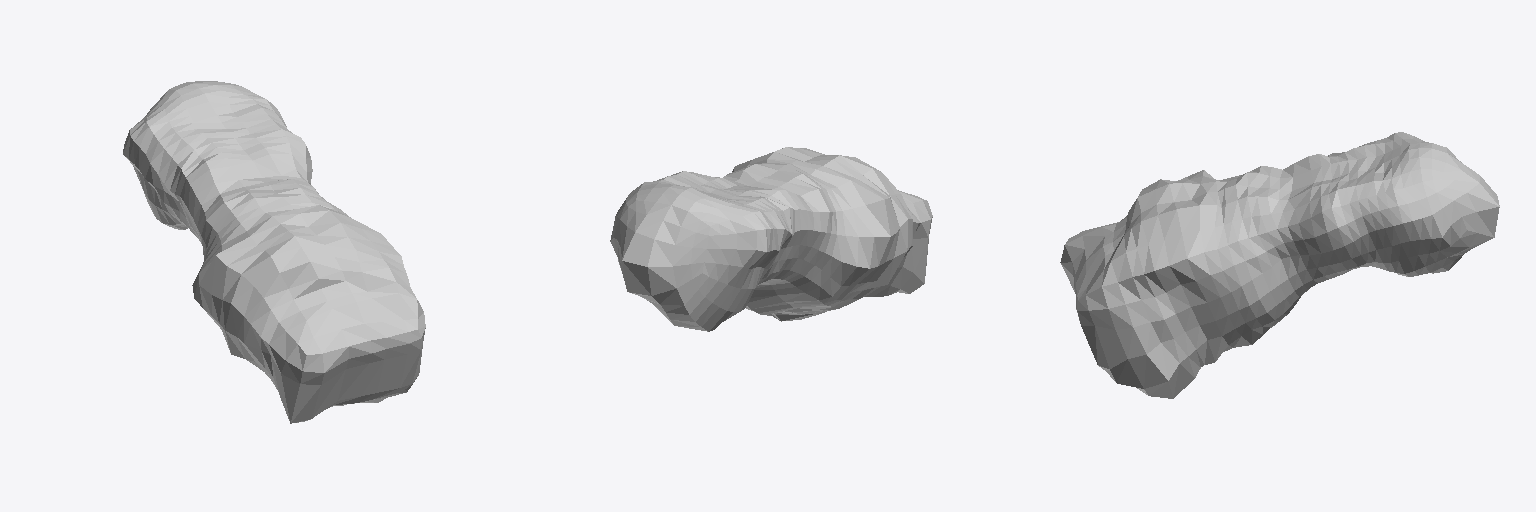
File: env_level1_Canyon_Rock29.obj
3 views of the same model, side by side, from view 1: azimuth 30°, elevation 25°; view 2: azimuth 150°, elevation 25°; view 3: azimuth 270°, elevation 25° (orthographic).
Visible parts, largest first — view 1: rockwall_b010; view 2: rockwall_b010; view 3: rockwall_b010.
Boxes of the visible parts, box(x1,y1,x2,y2) form: rockwall_b010: box(123, 81, 425, 423); rockwall_b010: box(610, 147, 932, 331); rockwall_b010: box(1060, 132, 1499, 398).
Size of the model in its own units: 2163 by 2617 by 4583.